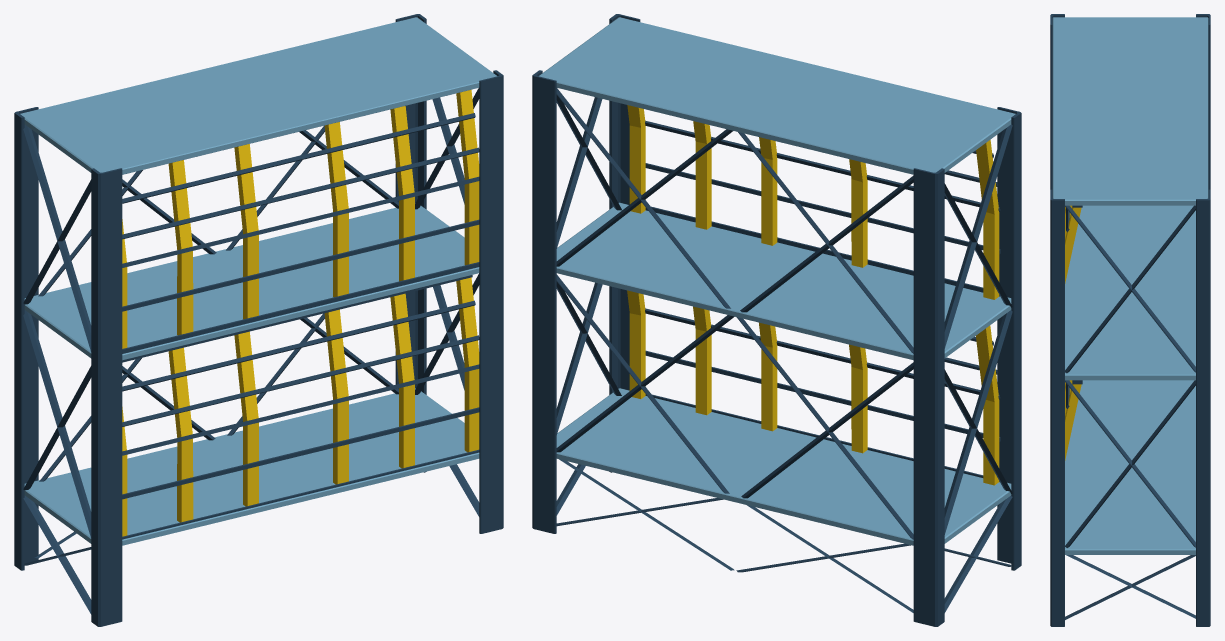
Rendered from Prop_Rack_C.fbx.
3 renders of one model, left to right at view 1: azimuth 30°, elevation 25°; view 2: azimuth 150°, elevation 25°; view 3: azimuth 270°, elevation 25°, orthographic. The views are drawn at different scales.
Parts seen in each view (by area): view 1: Prop_Rack_C; view 2: Prop_Rack_C; view 3: Prop_Rack_C.
Part boxes in pixels (<box>): Prop_Rack_C: <box>14,14,503,626</box>; Prop_Rack_C: <box>532,14,1021,626</box>; Prop_Rack_C: <box>1050,14,1210,626</box>.
Bounding box in the file's own units: 143 × 393 × 419.
